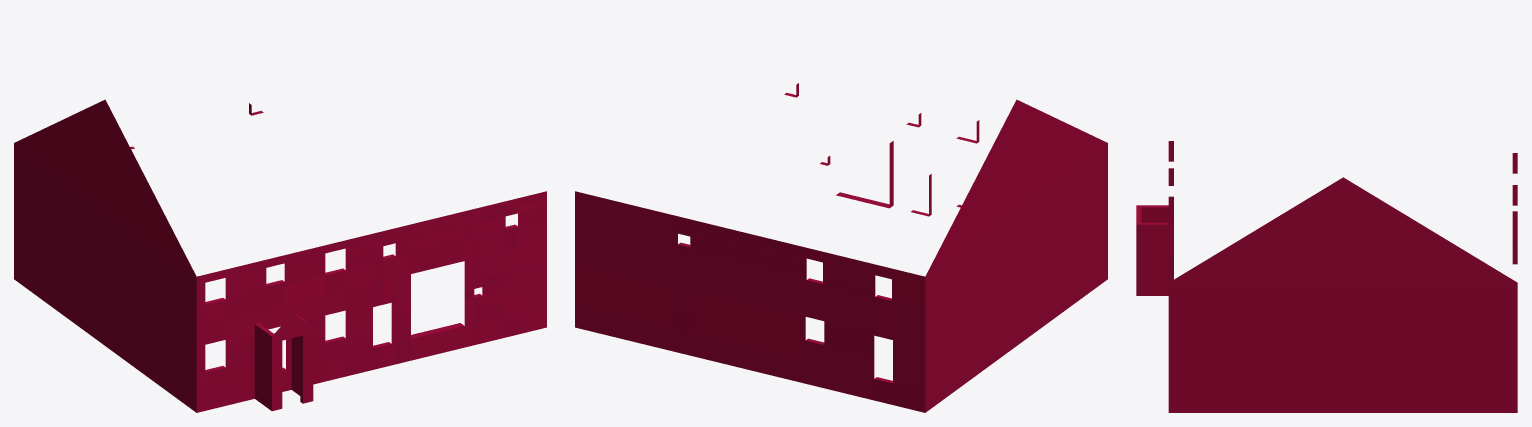
Rendered from SM_Bld_024_Masonry.glb.
The picture shows the model from 3 angles, left to right: view 1: azimuth 30°, elevation 25°; view 2: azimuth 150°, elevation 25°; view 3: azimuth 270°, elevation 25°; orthographic projection. The views are drawn at different scales.
Visible parts, largest first — view 1: SM_Bld_024_Masonry; view 2: SM_Bld_024_Masonry; view 3: SM_Bld_024_Masonry.
Boxes of the visible parts, x1,y1,x2,y2 form: SM_Bld_024_Masonry: (14,99,546,412); SM_Bld_024_Masonry: (575,83,1107,412); SM_Bld_024_Masonry: (1136,141,1517,412).
Size of the model in its own units: 16.94 by 11.4 by 16.73.
